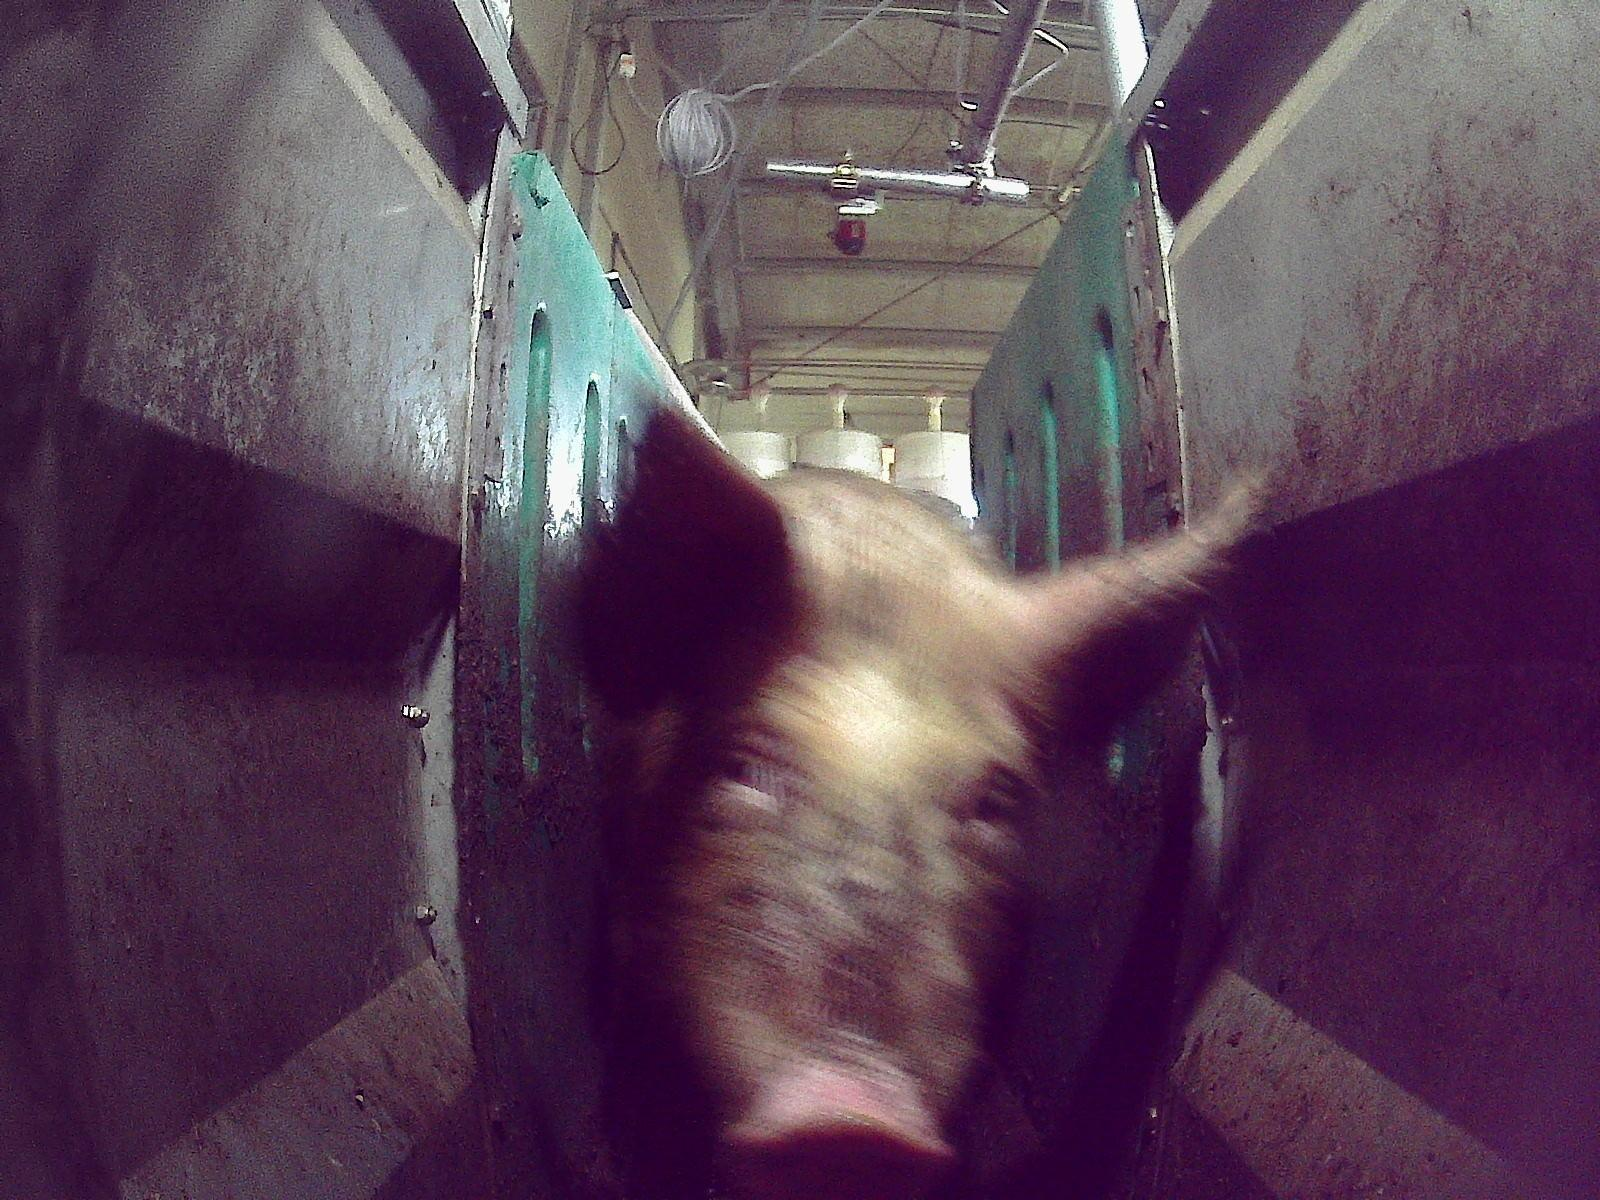Face: (650, 601, 1049, 1199)
